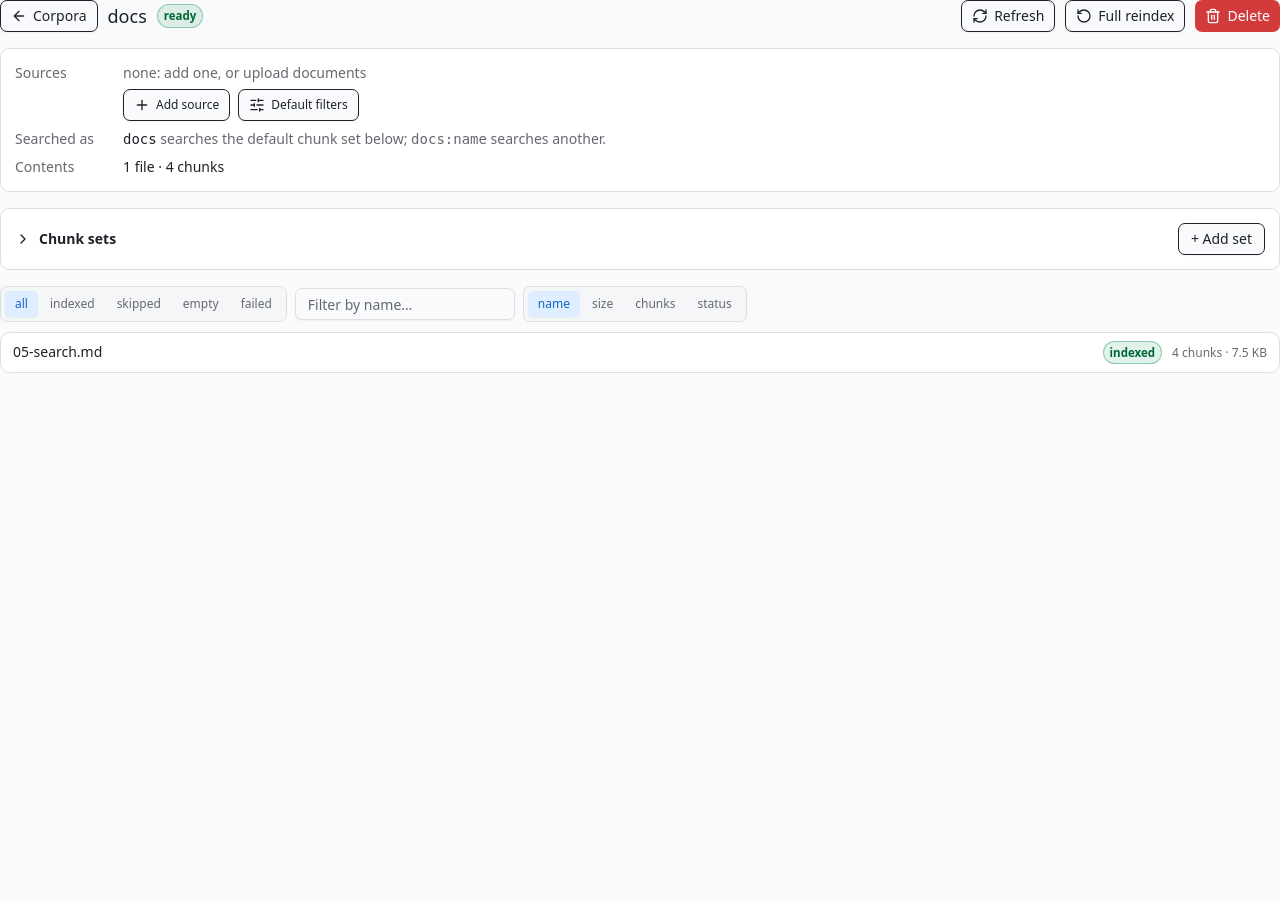
Test: opening a file from the list › announces a gap rather than closing it silently
The image size is (1280, 900).
Click the button "05-search.md" at (58, 352), box [13, 342, 1093, 362]
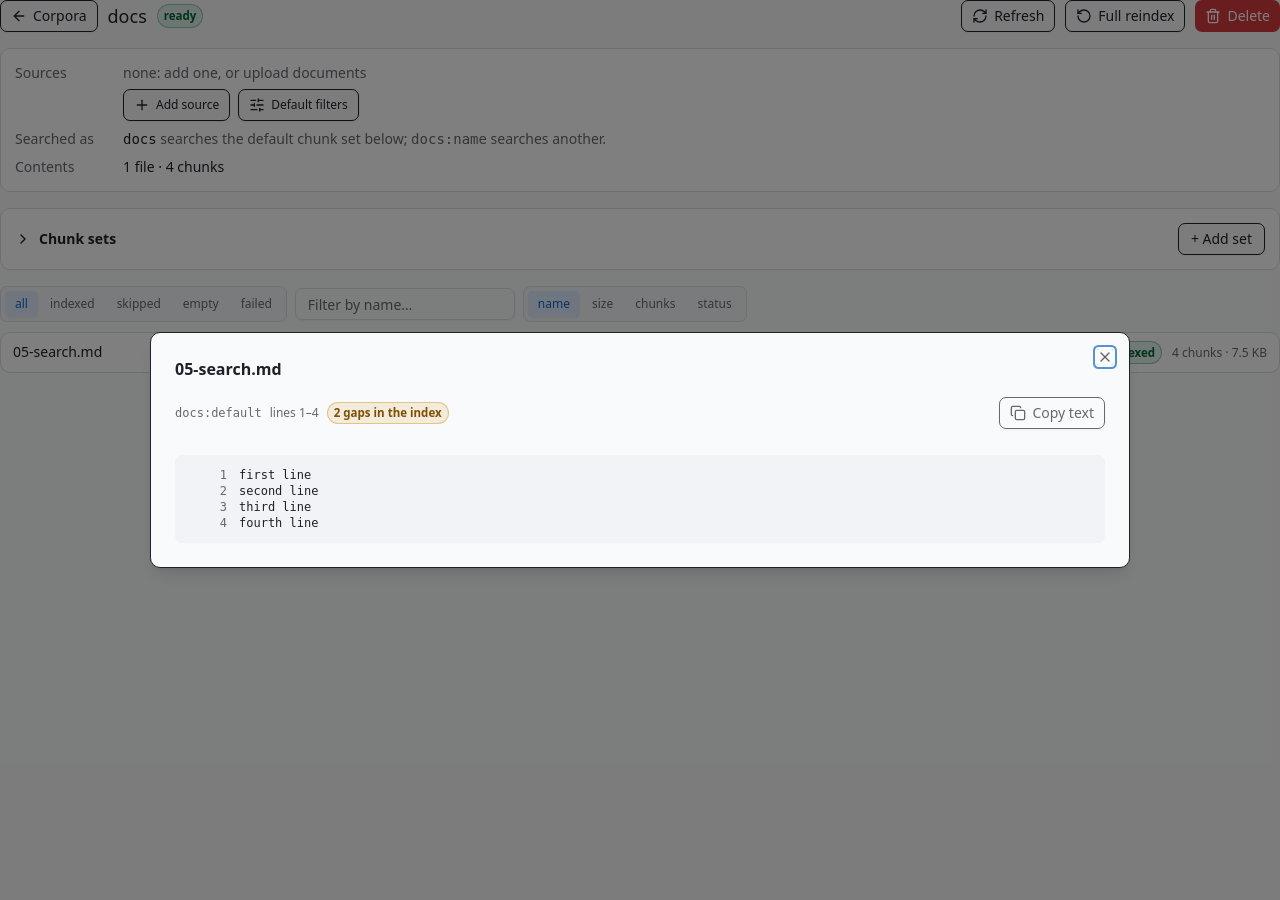
Check: the text "2 gaps in the index" is shown, box [327, 402, 449, 424]
